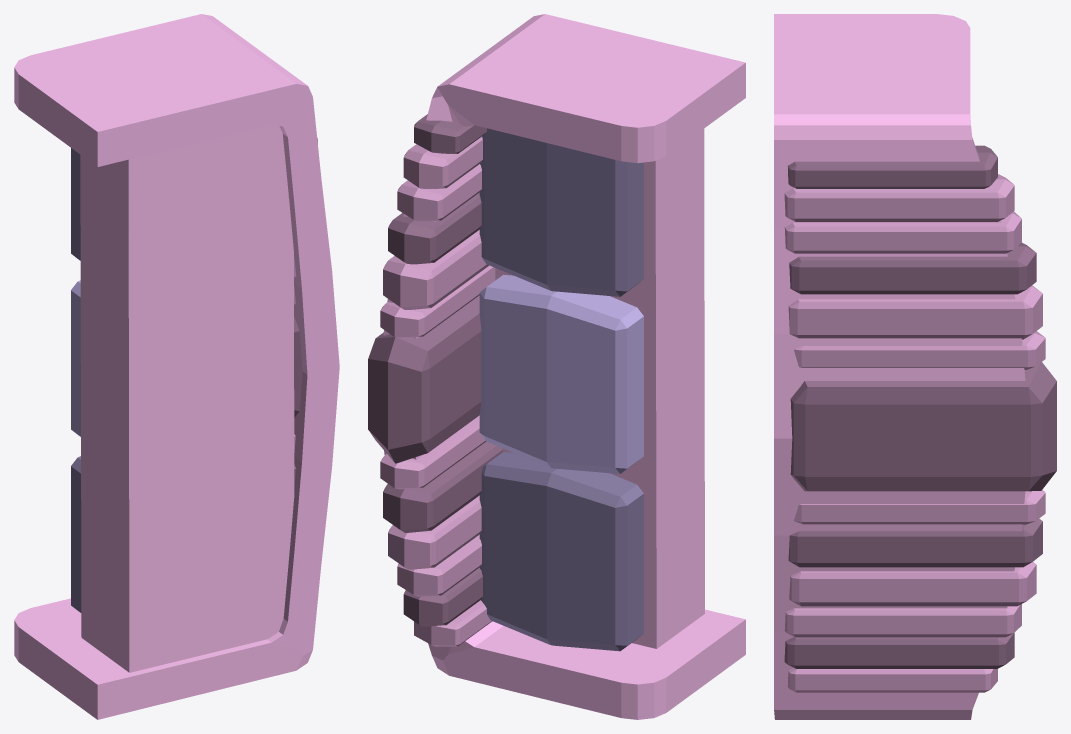
File: Furniture.fbx
3 views of the same model, side by side, from view 1: azimuth 30°, elevation 25°; view 2: azimuth 150°, elevation 25°; view 3: azimuth 270°, elevation 25° (orthographic). The views are drawn at different scales.
Parts seen in each view (by area): view 1: mueble; view 2: mueble; view 3: mueble.
Boxes of the visible parts, x1=… form: mueble: x1=14, y1=14, x2=339, y2=719; mueble: x1=368, y1=14, x2=745, y2=719; mueble: x1=774, y1=14, x2=1056, y2=719.
Size of the model in its own units: 1.58 by 3.58 by 1.51.
